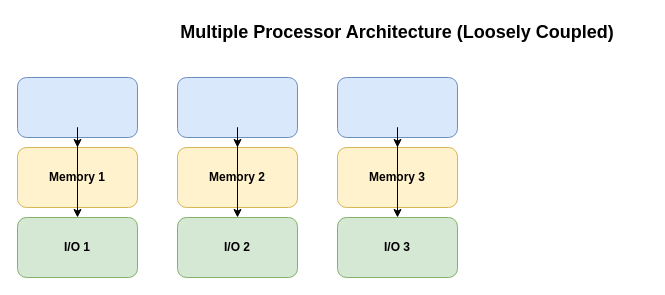
The diagram is 665 pixels wide and 295 high, and some of its shapes have lost their labels. Here are the shapes that lost their labels. From the top down, the box of each, then its label:
(16, 76, 138, 138): CPU 1
(176, 76, 298, 138): CPU 2
(336, 76, 458, 138): CPU 3
